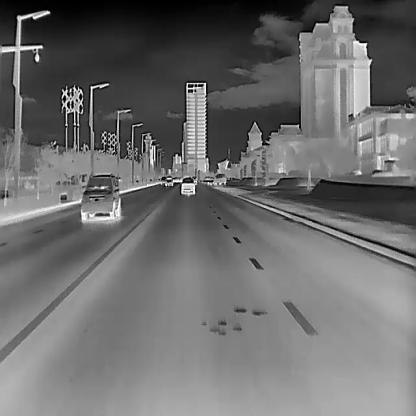car: (79, 173, 121, 223), (179, 176, 195, 196), (213, 172, 226, 186), (164, 174, 172, 186)
